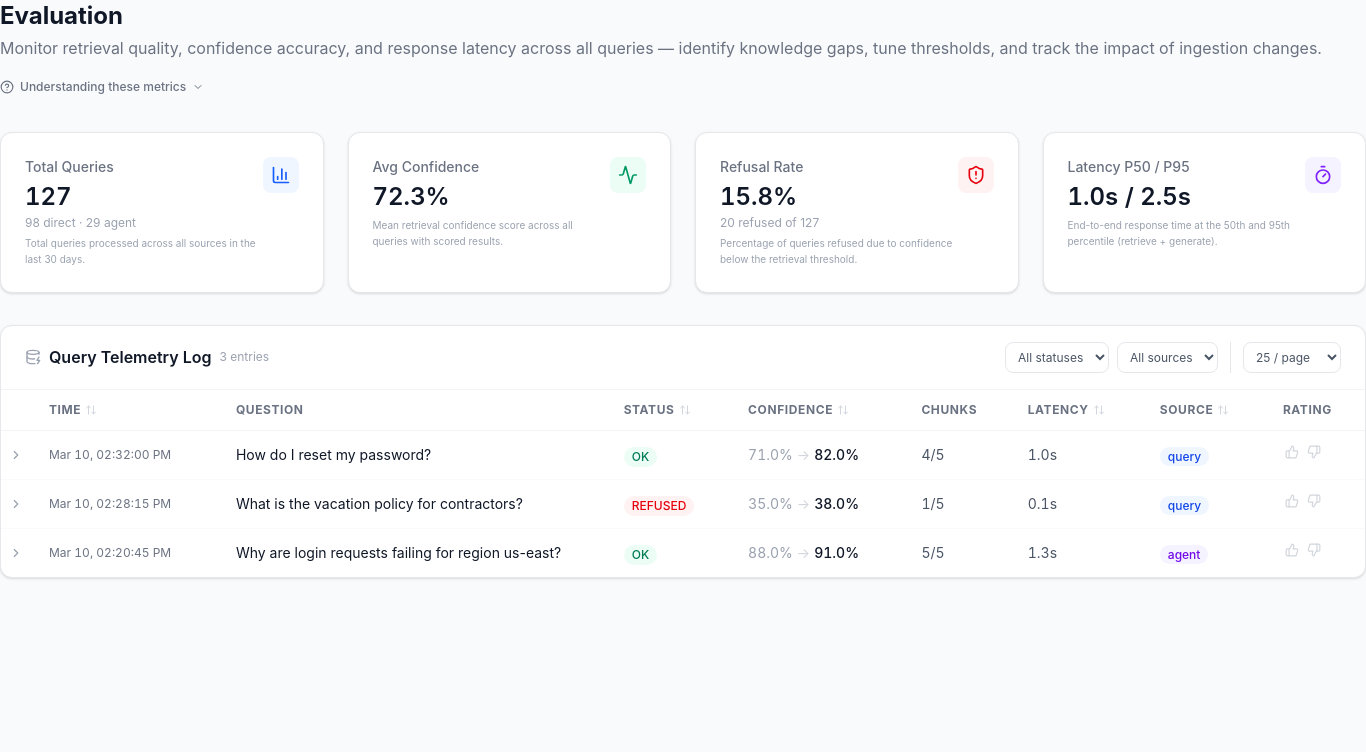
Test: EvaluationQueries — expandable rows › collapses an expanded row when clicked again
The width and height of the screenshot is (1366, 752).
Click the text "How do I reset my password?": (414, 454) [220,430,608,479]
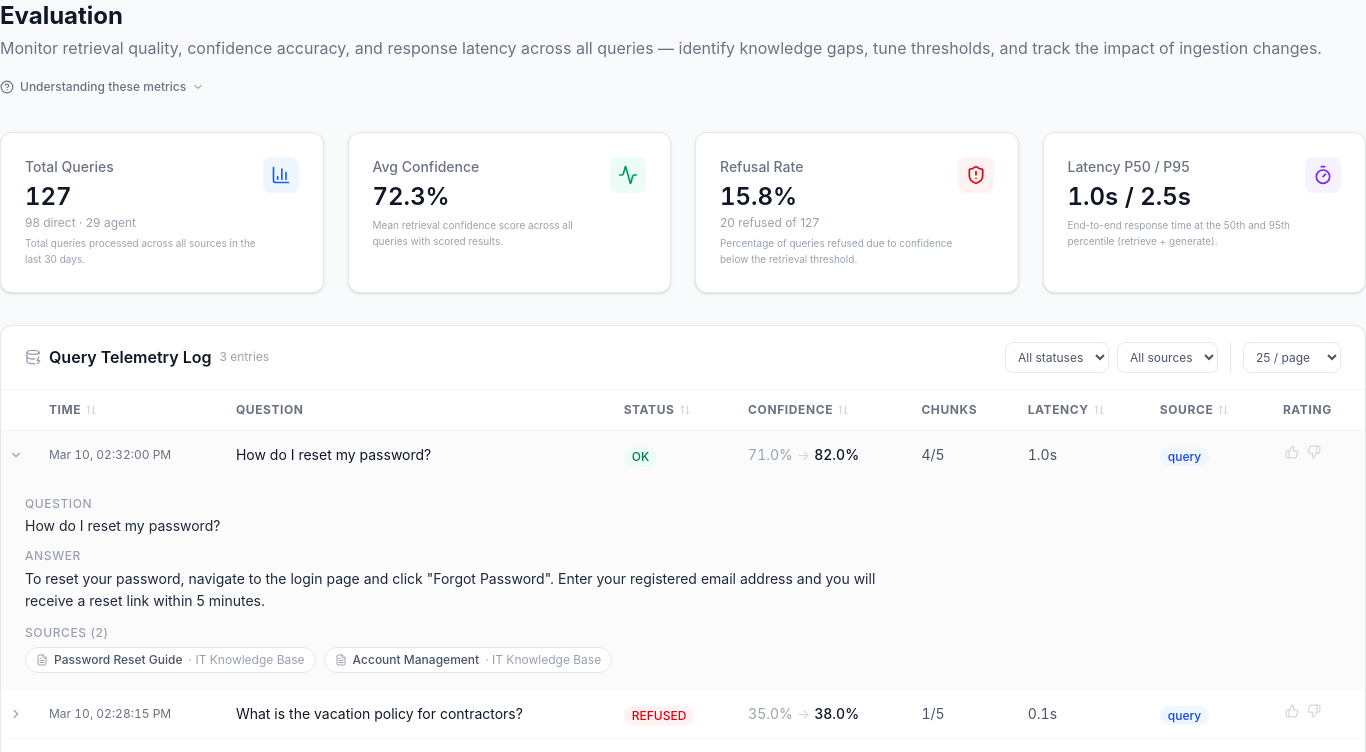
Check: the text "navigate to the login page" is shown, box [25,570,879,609]
Click the text "How do I reset my password?": (414, 454) [220,430,608,479]
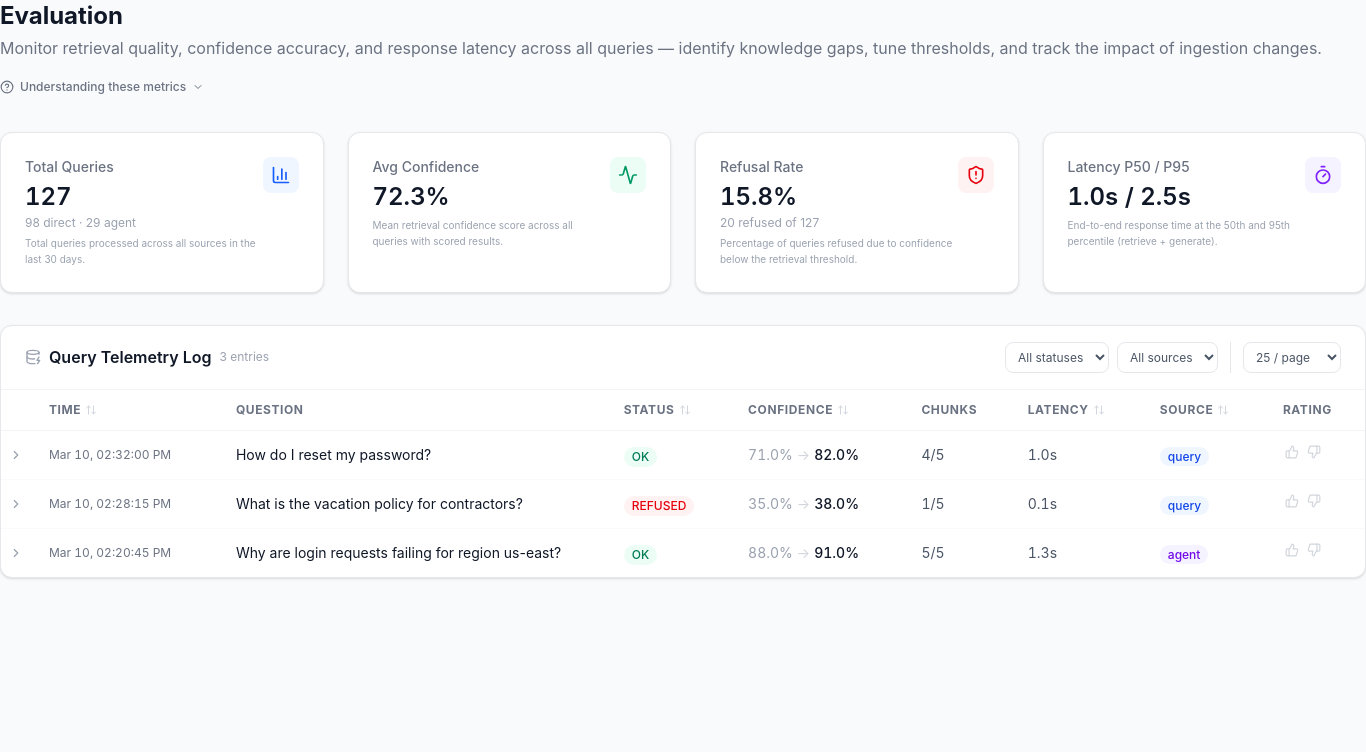
Check: the text "navigate to the login page" is gone
